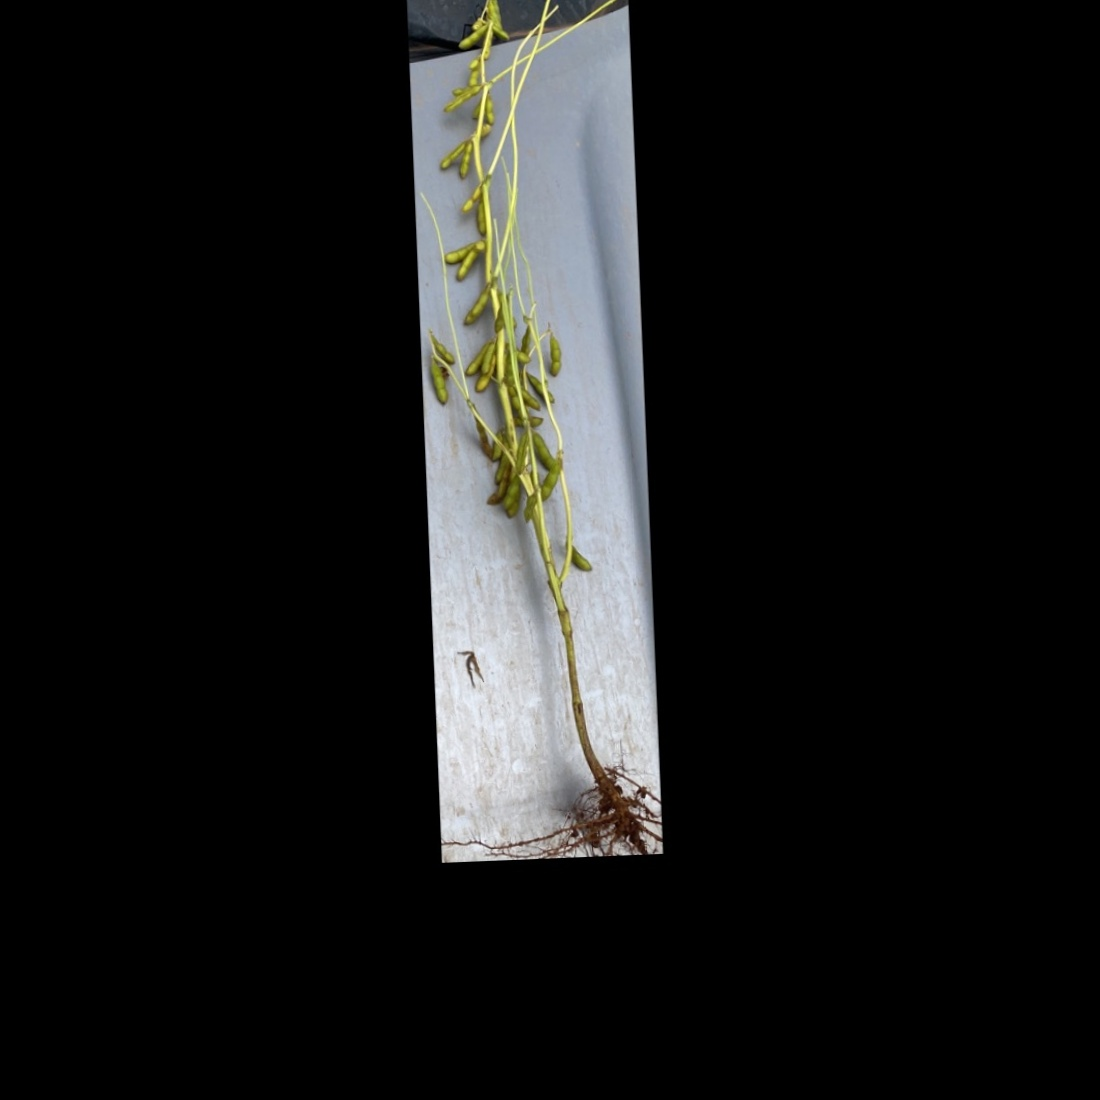pod: (563, 538, 596, 574), (429, 352, 450, 408), (539, 456, 565, 501), (460, 288, 490, 326), (545, 327, 564, 381), (454, 24, 492, 49), (456, 139, 478, 180), (430, 333, 456, 366), (521, 490, 542, 527), (491, 23, 512, 42), (485, 92, 497, 125)
soy: (412, 0, 657, 850)
